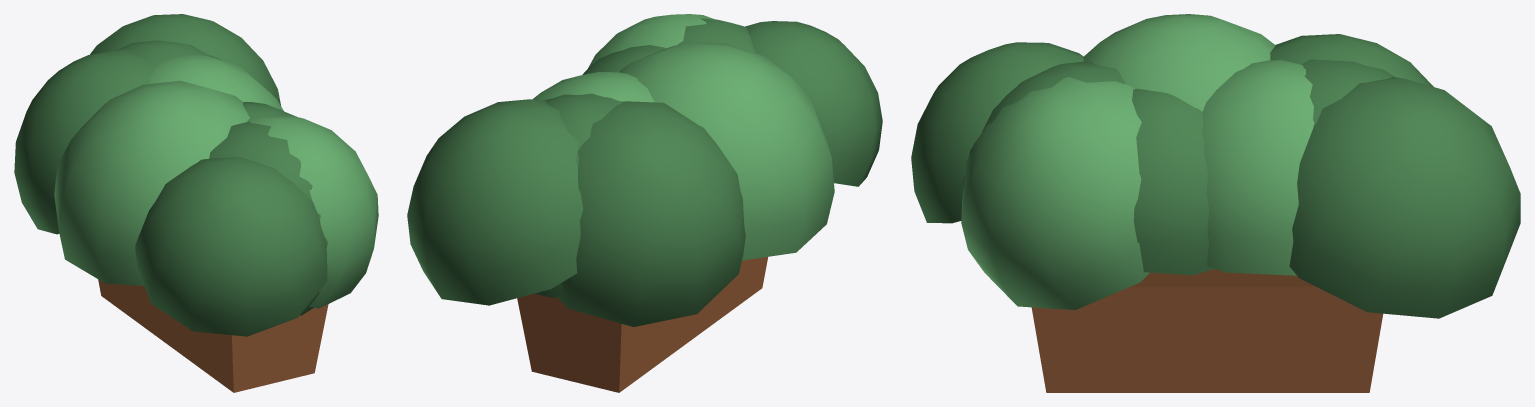
Rendered from flowerpot1.fbx.
3 renders of one model, left to right at view 1: azimuth 30°, elevation 25°; view 2: azimuth 150°, elevation 25°; view 3: azimuth 270°, elevation 25°, orthographic. The views are drawn at different scales.
Visible parts, largest first — view 1: pSphere18, pSphere19, pSphere21, pSphere15, pCube3, pSphere20, pSphere17, pSphere34, pSphere37, pSphere16; view 2: pSphere21, pSphere20, pSphere19, pCube3, pSphere18, pSphere15, pSphere17, pSphere37, pSphere34, pSphere16; view 3: pSphere20, pCube3, pSphere15, pSphere17, pSphere16, pSphere18, pSphere19, pSphere21, pSphere37, pSphere34.
Part boxes in pixels (x1,y1,x2,y2): pSphere18: (135,157,327,336); pSphere19: (54,80,250,285); pSphere21: (14,49,155,234); pSphere15: (247,115,378,308); pCube3: (98,279,328,392); pSphere20: (90,14,281,106); pSphere17: (149,54,283,111); pSphere34: (209,121,327,315); pSphere37: (115,40,220,66); pSphere16: (243,102,296,117); pSphere21: (557,101,745,326); pSphere20: (407,99,583,305); pSphere19: (619,42,834,260); pCube3: (517,257,767,392); pSphere18: (745,21,882,186); pSphere15: (588,14,715,68); pSphere17: (532,72,654,102); pSphere37: (534,93,621,297); pSphere34: (678,18,754,52); pSphere16: (582,45,665,74); pSphere20: (1289,77,1520,318); pCube3: (1031,269,1383,392); pSphere15: (961,77,1149,309); pSphere17: (1202,60,1313,275); pSphere16: (1132,88,1214,275); pSphere18: (911,42,1083,223); pSphere19: (1082,14,1275,111); pSphere21: (1270,34,1433,86); pSphere37: (1301,59,1395,127); pSphere34: (963,61,1125,189).
Size of the model in its own units: 4.19 by 3.69 by 6.45.
